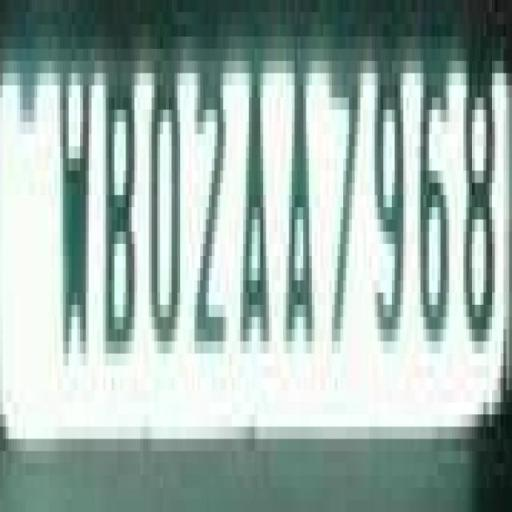number plate: (22, 12, 512, 463)
